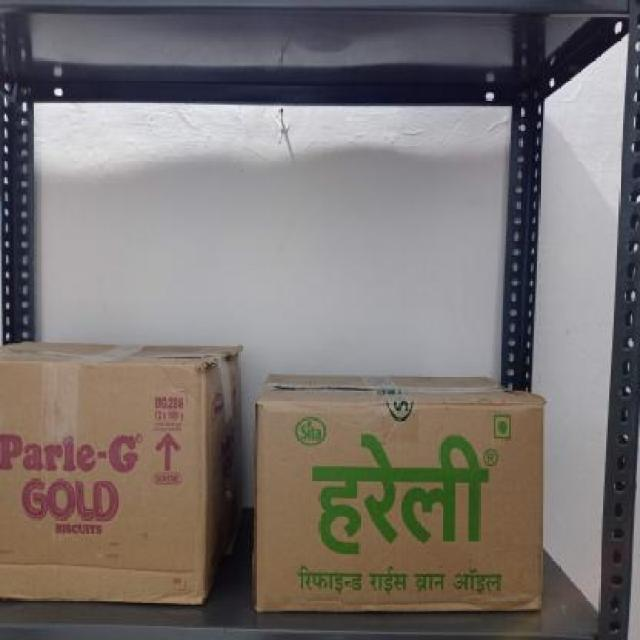box: (257, 397, 543, 616), (0, 362, 208, 604)
